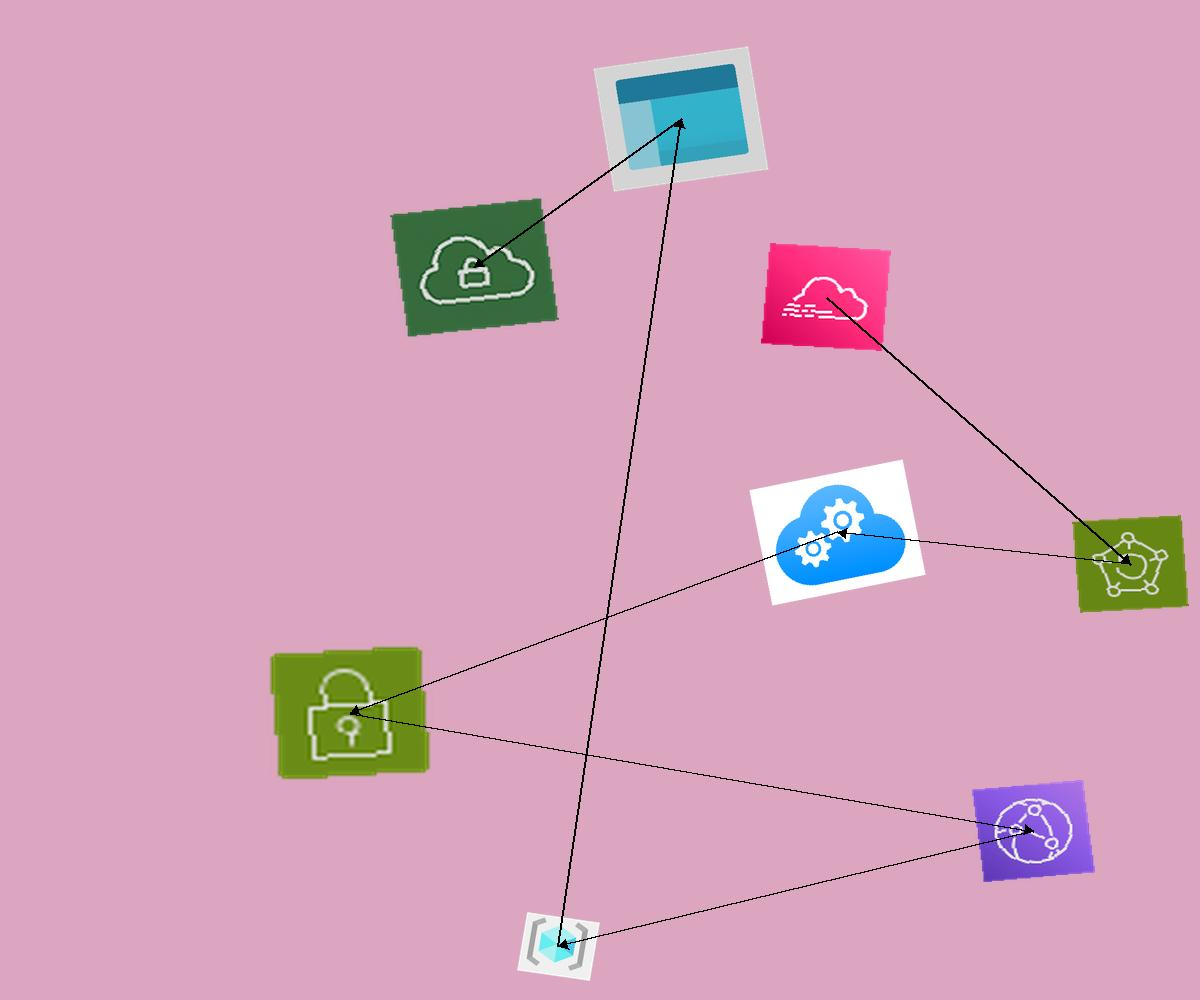AWS-Backup: (1072, 515, 1189, 613)
AWS-CloudFront: (971, 779, 1096, 883)
AWS-CloudTrail: (761, 243, 891, 351)
AWS-Private_vpc: (390, 197, 559, 338)
AWS-Public-subnet: (267, 644, 433, 782)
Azure_cloud_services: (749, 459, 926, 606)
Azure_management-portal: (593, 46, 769, 192)
Azure_resource_group: (517, 912, 600, 981)
